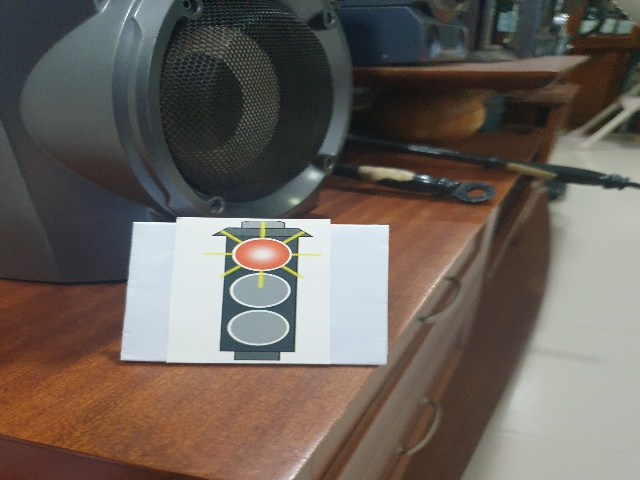Red Light: (201, 219, 321, 363)
